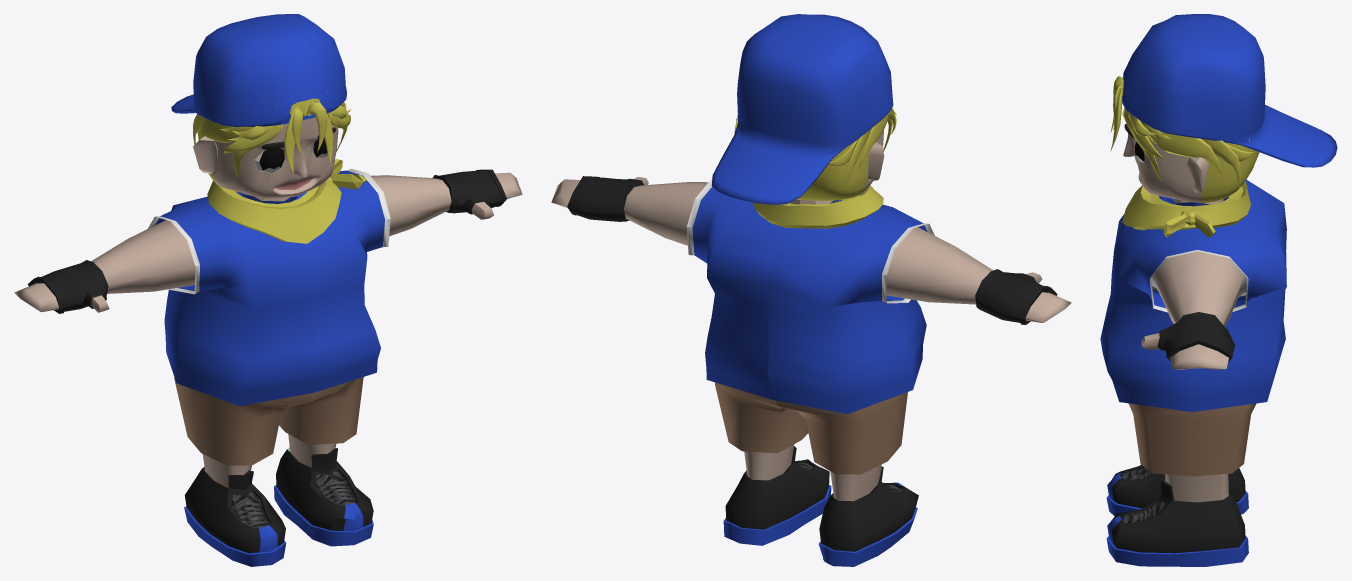
File: kpeople.fbx
3 renders of one model, left to right at view 1: azimuth 30°, elevation 25°; view 2: azimuth 150°, elevation 25°; view 3: azimuth 270°, elevation 25°, orthographic. The views are drawn at different scales.
Parts seen in each view (by area): view 1: polySurface48, polySurface50, polySurface69, polySurface51, polySurface54, pPipe1, polySurface71; view 2: polySurface48, polySurface50, polySurface69, polySurface51, pPipe1, polySurface54; view 3: polySurface48, polySurface50, polySurface69, polySurface51, polySurface54, pPipe1, polySurface52, pCube14, polySurface75, polySurface70, polySurface78, polySurface55.
Part boxes in pixels (x1,y1,x2,y2): polySurface48: (148,168,390,405); polySurface50: (14,169,522,566); polySurface69: (171,14,346,126); polySurface51: (174,377,363,465); polySurface54: (197,92,338,198); pPipe1: (207,177,341,243); polySurface71: (193,136,217,174); polySurface48: (686,179,934,413); polySurface50: (551,176,1071,566); polySurface69: (711,14,893,204); polySurface51: (715,382,907,474); pPipe1: (752,185,883,228); polySurface54: (740,126,883,200); polySurface48: (1100,179,1286,412); polySurface50: (1106,199,1248,566); polySurface69: (1122,14,1337,167); polySurface51: (1128,403,1255,476); polySurface54: (1123,91,1259,203); pPipe1: (1122,181,1250,230); polySurface52: (1151,131,1220,174); pCube14: (1163,212,1215,237); polySurface75: (1201,138,1241,189); polySurface70: (1187,157,1208,193); polySurface78: (1122,108,1165,160); polySurface55: (1110,86,1123,151).
Bounding box in the file's own units: 12.11 × 11.63 × 4.97.
Materials: 12 (1 with a texture image).
